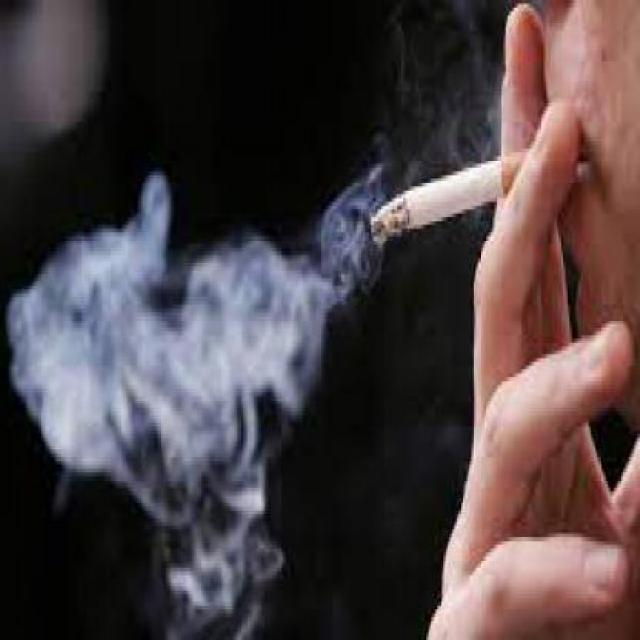smoke: (368, 137, 535, 255)
